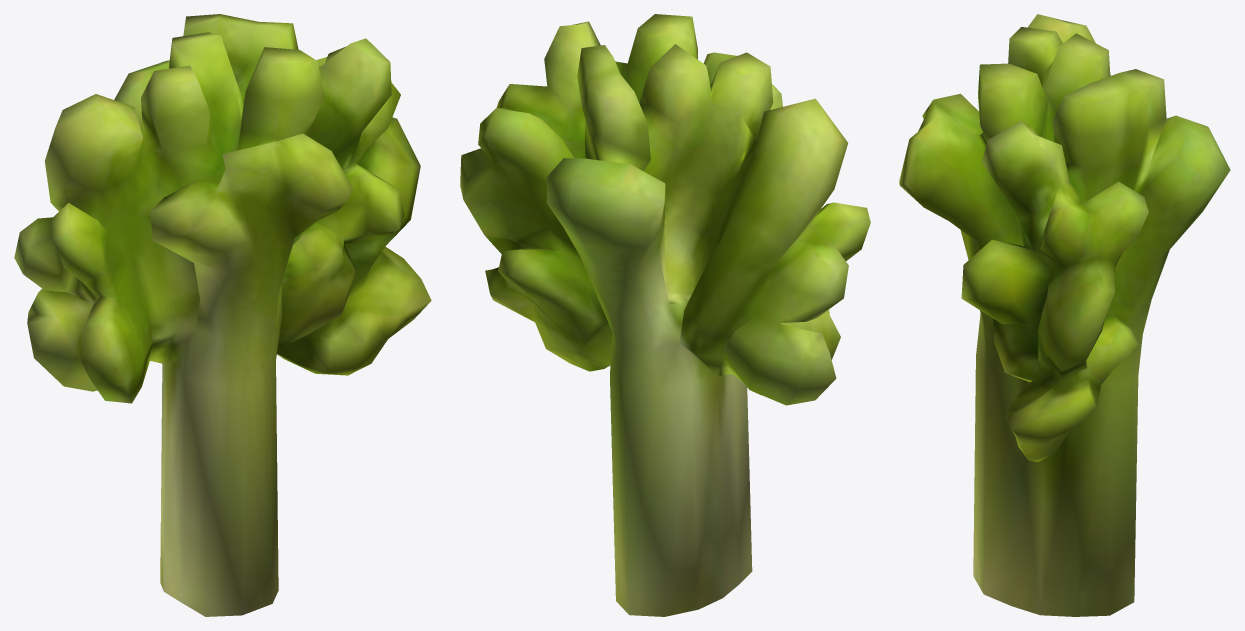
The model's file is celery.glb.
The picture shows the model from 3 angles, left to right: view 1: azimuth 30°, elevation 25°; view 2: azimuth 150°, elevation 25°; view 3: azimuth 270°, elevation 25°; orthographic projection.
Visible parts, largest first — view 1: Celery; view 2: Celery; view 3: Celery.
Boxes of the visible parts, box(x1,y1,x2,y2) form: Celery: box(14, 14, 431, 616); Celery: box(460, 14, 870, 616); Celery: box(899, 14, 1230, 616).
Bounding box in the file's own units: 1.37 × 1.85 × 1.01.
1 material, 1 textured.
